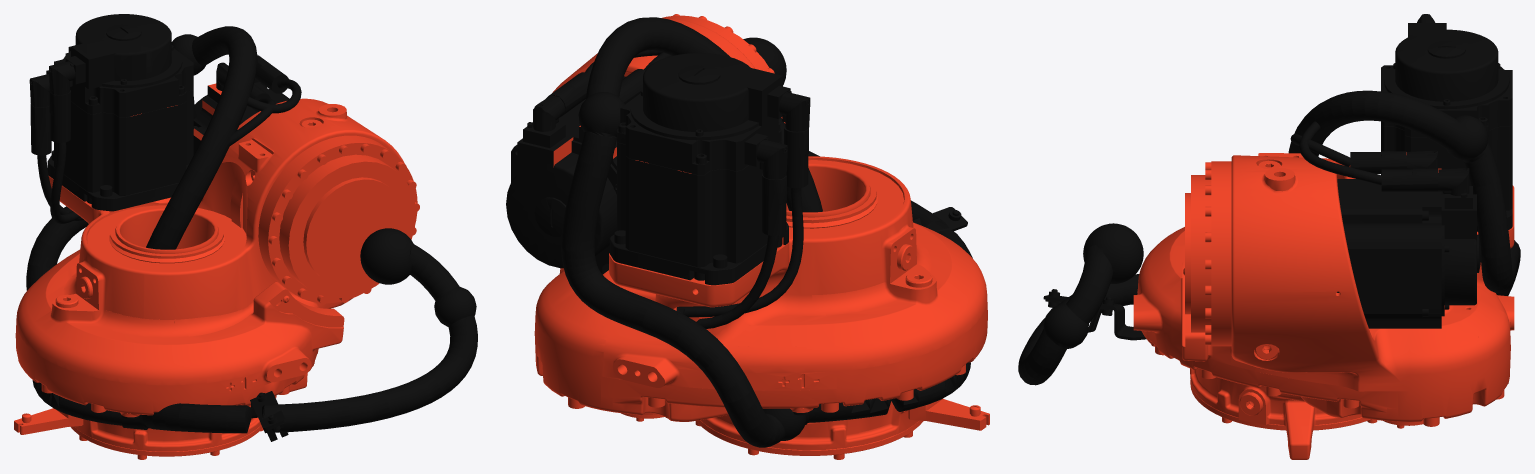
The picture shows the model from 3 angles, left to right: view 1: azimuth 30°, elevation 25°; view 2: azimuth 150°, elevation 25°; view 3: azimuth 270°, elevation 25°; orthographic projection. The views are drawn at different scales.
Visible parts, largest first — view 1: link_1; view 2: link_1; view 3: link_1.
Boxes of the visible parts, bbox=[...] form: link_1: bbox=[14, 14, 477, 459]; link_1: bbox=[506, 14, 989, 459]; link_1: bbox=[1018, 14, 1520, 459].
Bounding box in the file's own units: 0.4454 × 0.4968 × 0.3993.
